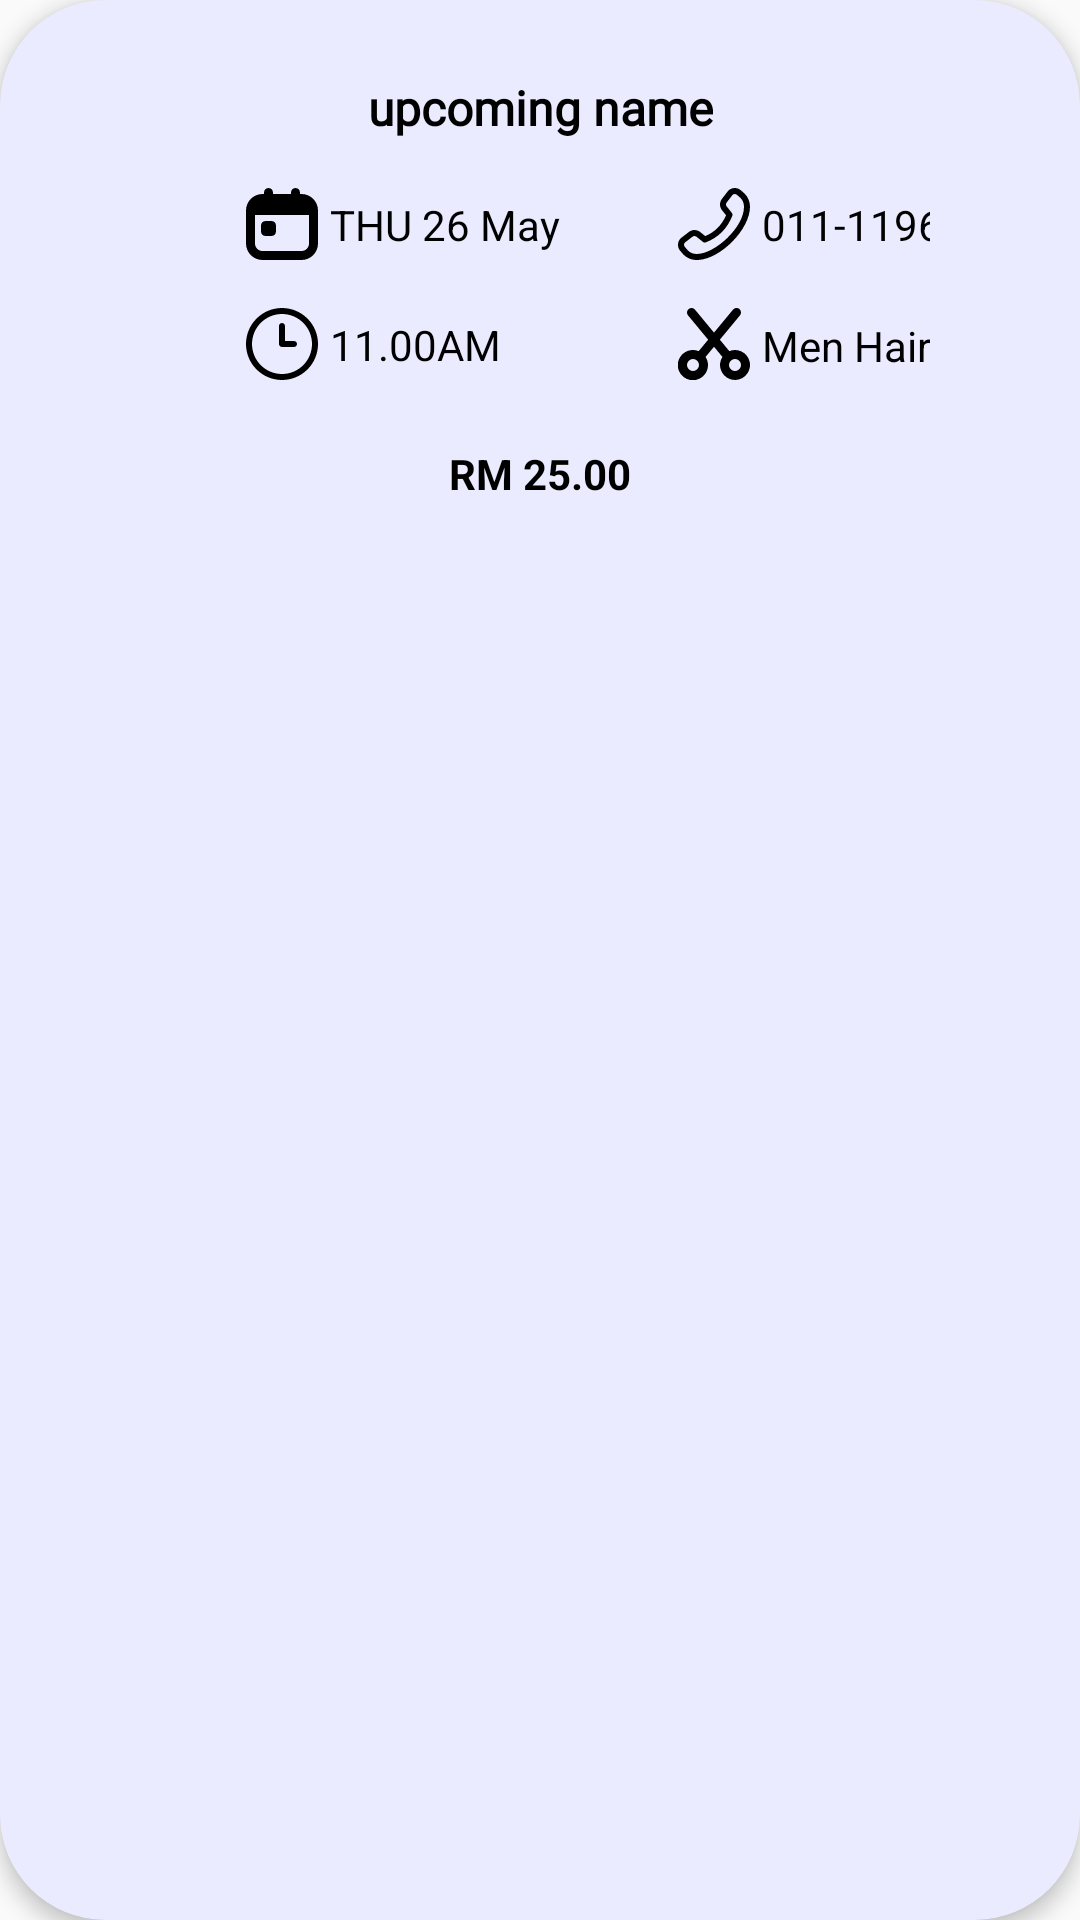

Icon click points for this 1080*1920 phone screenshot, format [x,y]:
calendar: [282,224]
clock: [282,344]
phone: [714,224]
scissors: [714,344]
